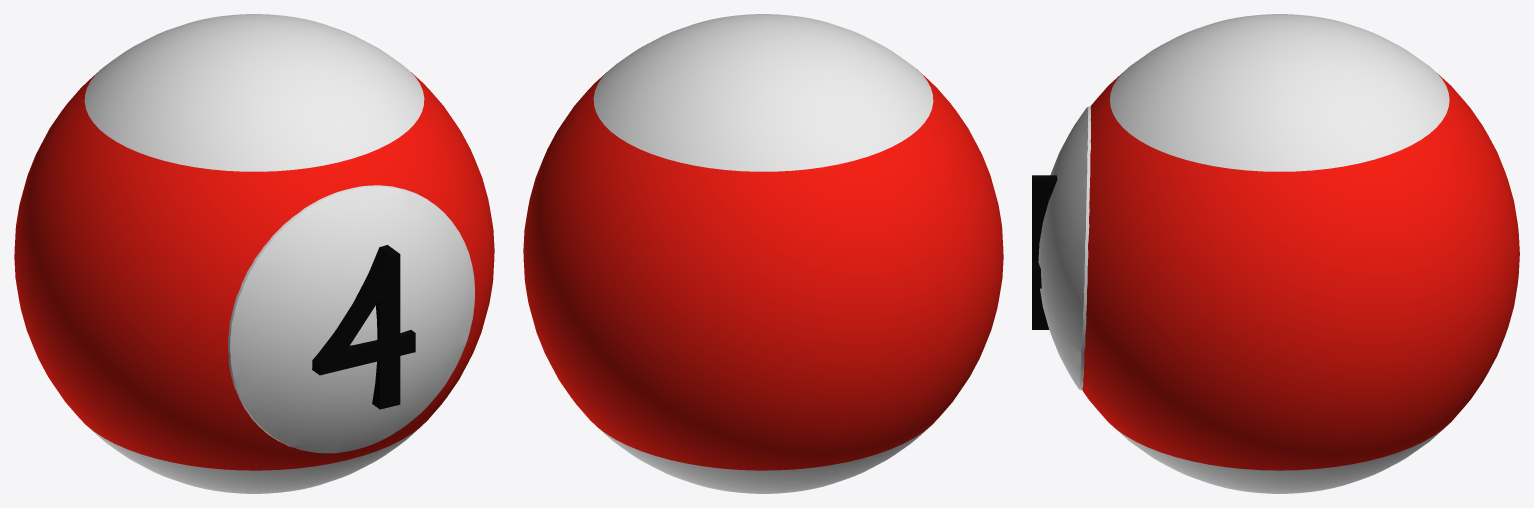
File: bola.fbx
The picture shows the model from 3 angles, left to right: view 1: azimuth 30°, elevation 25°; view 2: azimuth 150°, elevation 25°; view 3: azimuth 270°, elevation 25°; orthographic projection.
Parts seen in each view (by area): view 1: Sphere, Sphere.001, Text; view 2: Sphere; view 3: Sphere, Sphere.001, Text.
Part boxes in pixels (left/top/right/bottom): Sphere: left=14, top=14, right=494, bottom=493; Sphere.001: left=228, top=185, right=474, bottom=453; Text: left=312, top=245, right=415, bottom=409; Sphere: left=523, top=14, right=1003, bottom=493; Sphere: left=1082, top=14, right=1519, bottom=493; Sphere.001: left=1038, top=106, right=1090, bottom=390; Text: left=1032, top=175, right=1057, bottom=329.
Bounding box in the file's own units: 200 × 200 × 203.
